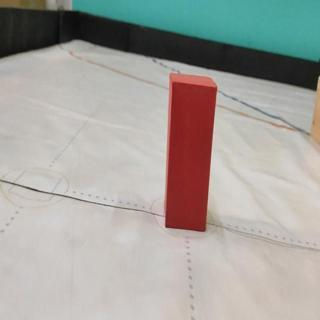redbox: (164, 71, 217, 232)
